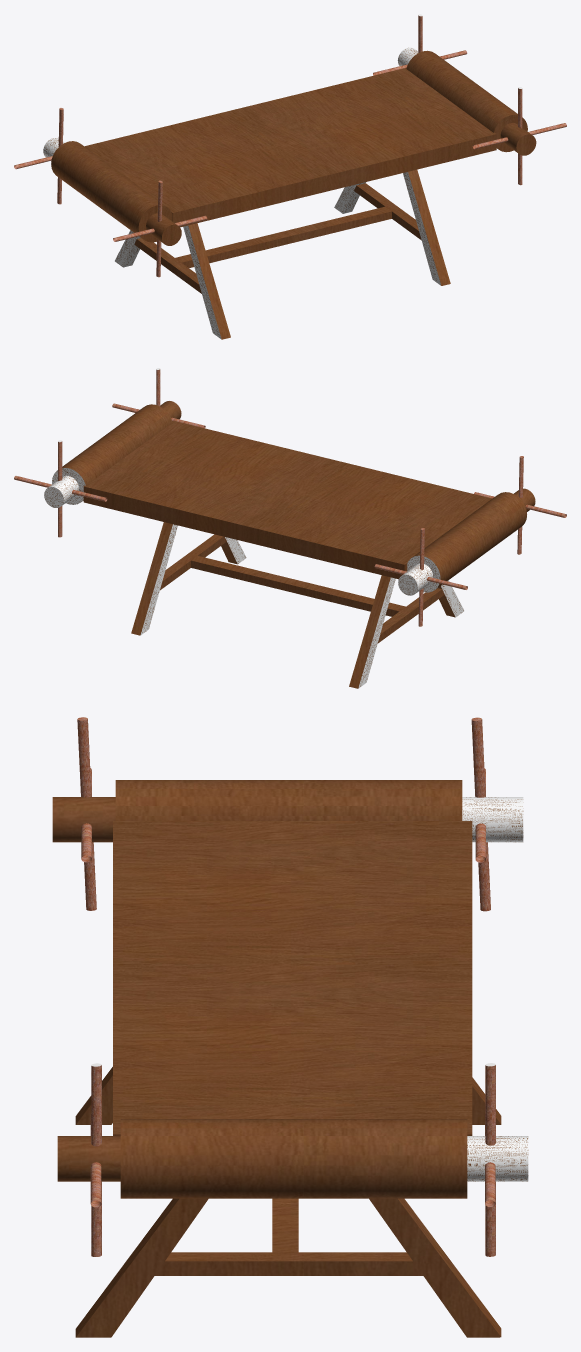
File: mesa tortura.FBX
3 renders of one model, top to bottom at view 1: azimuth 30°, elevation 25°; view 2: azimuth 150°, elevation 25°; view 3: azimuth 270°, elevation 25°, orthographic. The views are drawn at different scales.
Visible parts, largest first — view 1: ID104, ID69, ID152, ID182, ID120, ID128, ID174, ID144; view 2: ID104, ID69, ID152, ID182, ID190, ID160; view 3: ID104, ID182, ID69, ID152, Agrupar_2 (×2), ID144, ID174, ID190, ID160, ID204, EL_POTRO, ID120.
Part boxes in pixels (<box>): ID104: <box>84,68,496,227</box>; ID69: <box>115,172,441,339</box>; ID152: <box>51,141,172,242</box>; ID182: <box>406,50,527,152</box>; ID120: <box>408,169,450,285</box>; ID128: <box>188,223,230,339</box>; ID174: <box>500,123,536,155</box>; ID144: <box>146,213,181,245</box>; ID104: <box>83,421,491,579</box>; ID69: <box>131,522,464,688</box>; ID152: <box>407,492,526,592</box>; ID182: <box>52,404,172,504</box>; ID190: <box>44,475,78,507</box>; ID160: <box>398,563,432,595</box>; ID104: <box>113,821,472,1135</box>; ID182: <box>120,1119,467,1198</box>; ID69: <box>76,1075,501,1337</box>; ID152: <box>115,780,462,820</box>; Agrupar_2 (×2): <box>77,717,490,911</box>; ID144: <box>52,797,115,842</box>; ID174: <box>57,1136,120,1181</box>; ID190: <box>467,1136,528,1181</box>; ID160: <box>462,797,523,842</box>; ID204: <box>91,1065,101,1256</box>; EL_POTRO: <box>485,1065,495,1256</box>; ID120: <box>75,1198,178,1337</box>.
Size of the model in its own units: 567 by 208 by 259.
